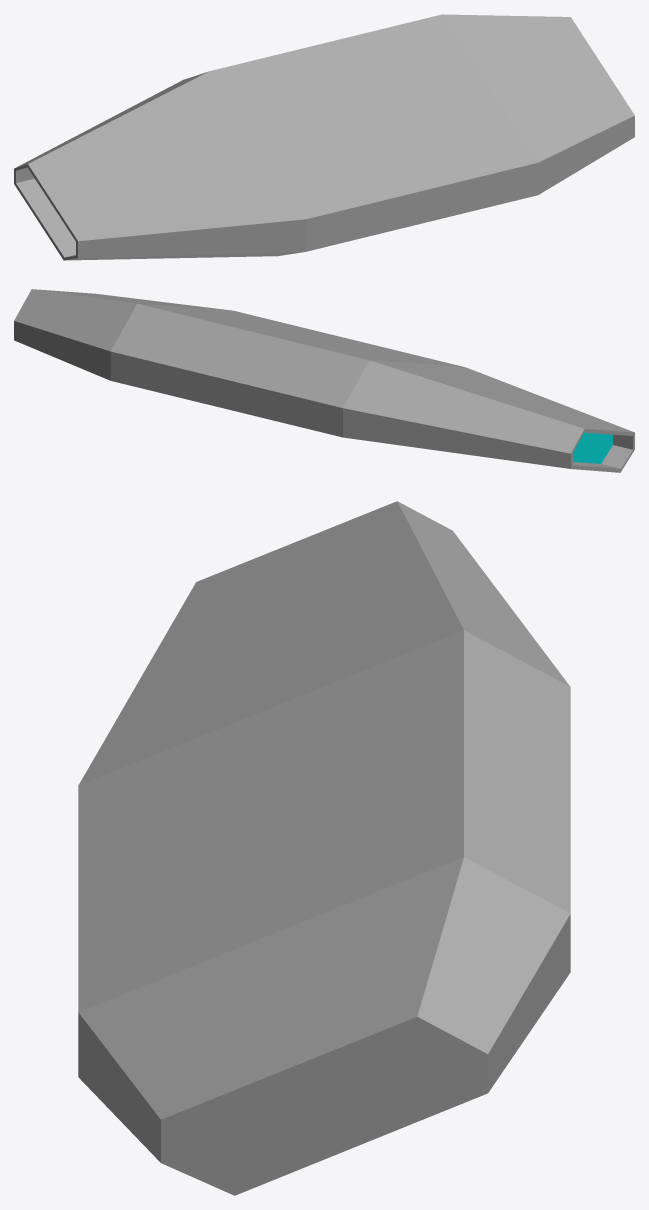
Rendered from SM_FrigateEngine.fbx.
The picture shows the model from 3 angles, top to bottom: view 1: azimuth 30°, elevation 25°; view 2: azimuth 150°, elevation 25°; view 3: azimuth 270°, elevation 25°; orthographic projection. The views are drawn at different scales.
Visible parts, largest first — view 1: polySurface38; view 2: polySurface38; view 3: polySurface38.
Boxes of the visible parts, x1,y1,x2,y2 form: polySurface38: (14,14,634,260); polySurface38: (14,289,634,472); polySurface38: (78,501,570,1195).
Size of the model in its own units: 3281 by 771 by 1276.
